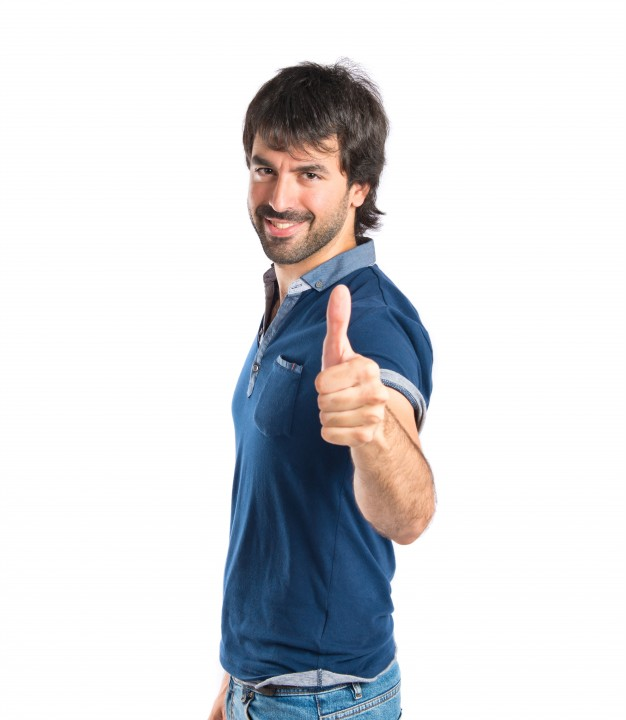thumbsup: (314, 284, 388, 445)
